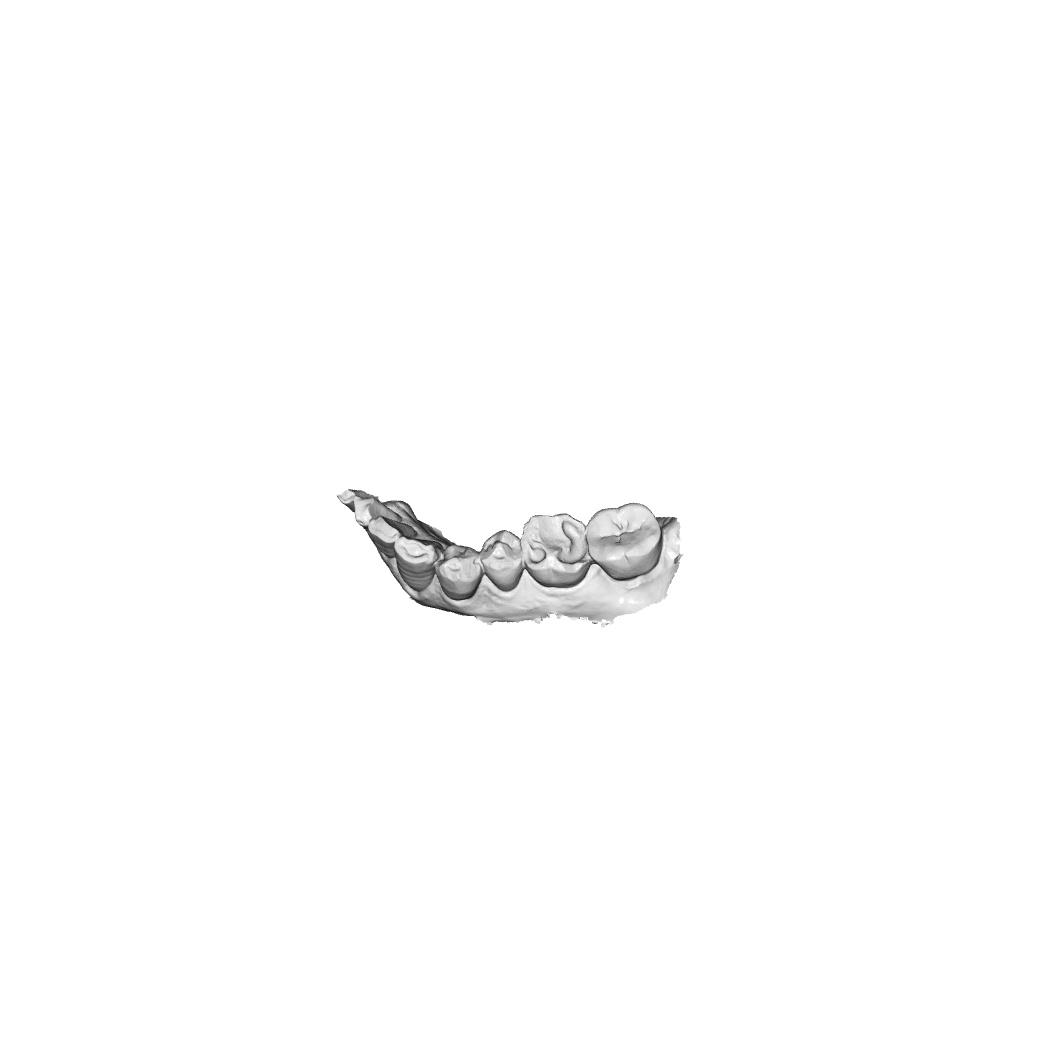canine: (392, 534, 444, 592)
incisor: (367, 515, 418, 560), (353, 495, 403, 532)
molar: (585, 502, 664, 582), (520, 512, 592, 590)
premolar: (479, 529, 525, 593), (433, 544, 484, 601)
